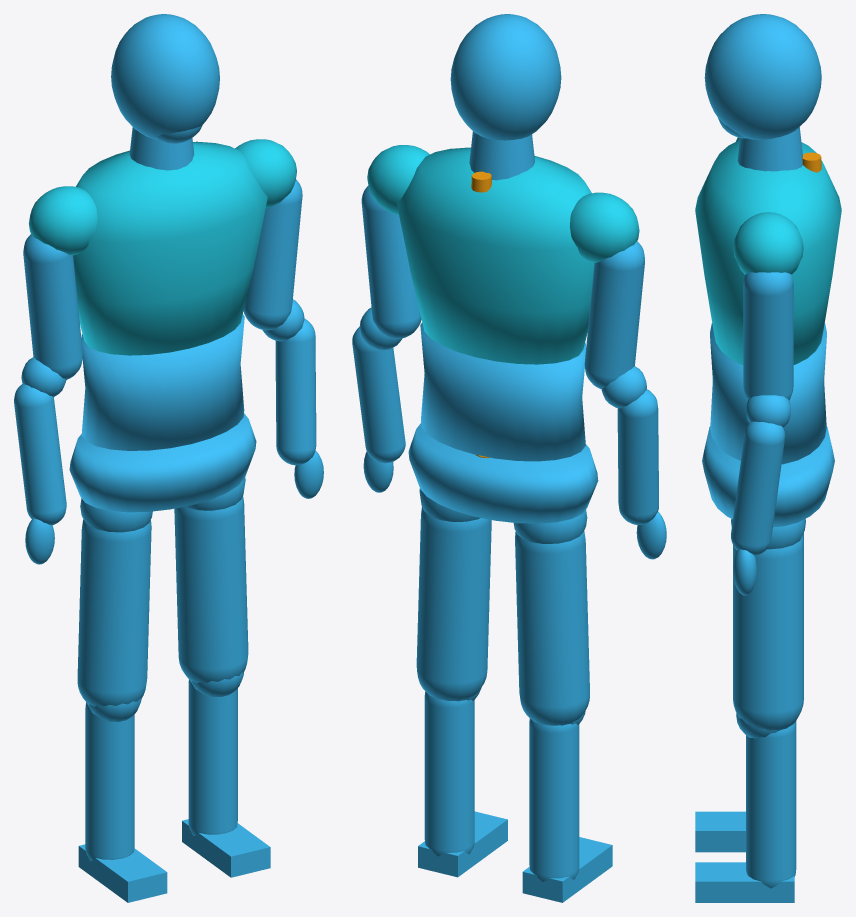
The model's file is body.glb.
3 renders of one model, left to right at view 1: azimuth 30°, elevation 25°; view 2: azimuth 150°, elevation 25°; view 3: azimuth 270°, elevation 25°, orthographic.
Parts seen in each view (by area): view 1: chest, rightLeg, leftLeg, abdomen, rightArm, leftArm, pelvis, head, neck; view 2: chest, rightLeg, leftLeg, abdomen, rightArm, leftArm, pelvis, head, neck; view 3: leftLeg, chest, leftArm, head, abdomen, pelvis, rightLeg, neck, spine.
Boxes of the visible parts, box(x1,y1,x2,y2) form: chest: box(29, 139, 296, 355); rightLeg: box(77, 498, 167, 902); leftLeg: box(174, 477, 270, 877); abdomen: box(81, 314, 244, 450); rightArm: box(14, 234, 82, 564); leftArm: box(243, 179, 323, 498); pelvis: box(69, 413, 256, 512); head: box(111, 14, 219, 143); neck: box(129, 127, 194, 170); chest: box(367, 145, 639, 364); rightLeg: box(513, 510, 612, 902); leftLeg: box(416, 488, 507, 877); abdomen: box(420, 322, 586, 461); rightArm: box(584, 241, 666, 559); leftArm: box(352, 185, 421, 492); pelvis: box(408, 423, 598, 523); head: box(450, 14, 561, 140); neck: box(469, 131, 534, 180); leftLeg: box(695, 519, 805, 902); chest: box(695, 137, 841, 364); leftArm: box(731, 272, 793, 595); head: box(704, 14, 821, 139); abdomen: box(710, 323, 826, 464); pelvis: box(702, 426, 834, 527); rightLeg: box(695, 532, 803, 852); neck: box(737, 127, 802, 171); spine: box(802, 152, 821, 172).
Bounding box in the file's own units: 0.6611 × 1.79 × 0.2808.
